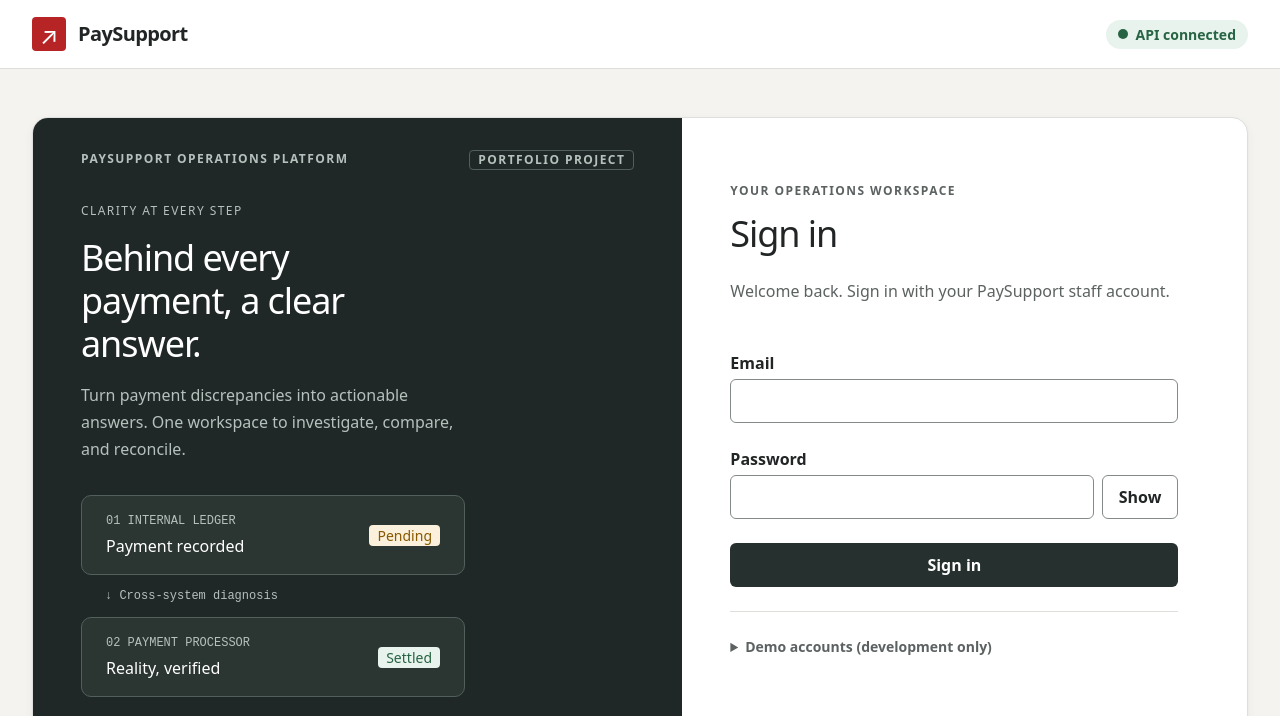
Test: workspace › searches by customer and explains when nothing matches
This screenshot has width=1280, height=716.
Type "engineer@paysupport.test" into the field labelled "Email" at (954, 401), box [730,379,1178,423]
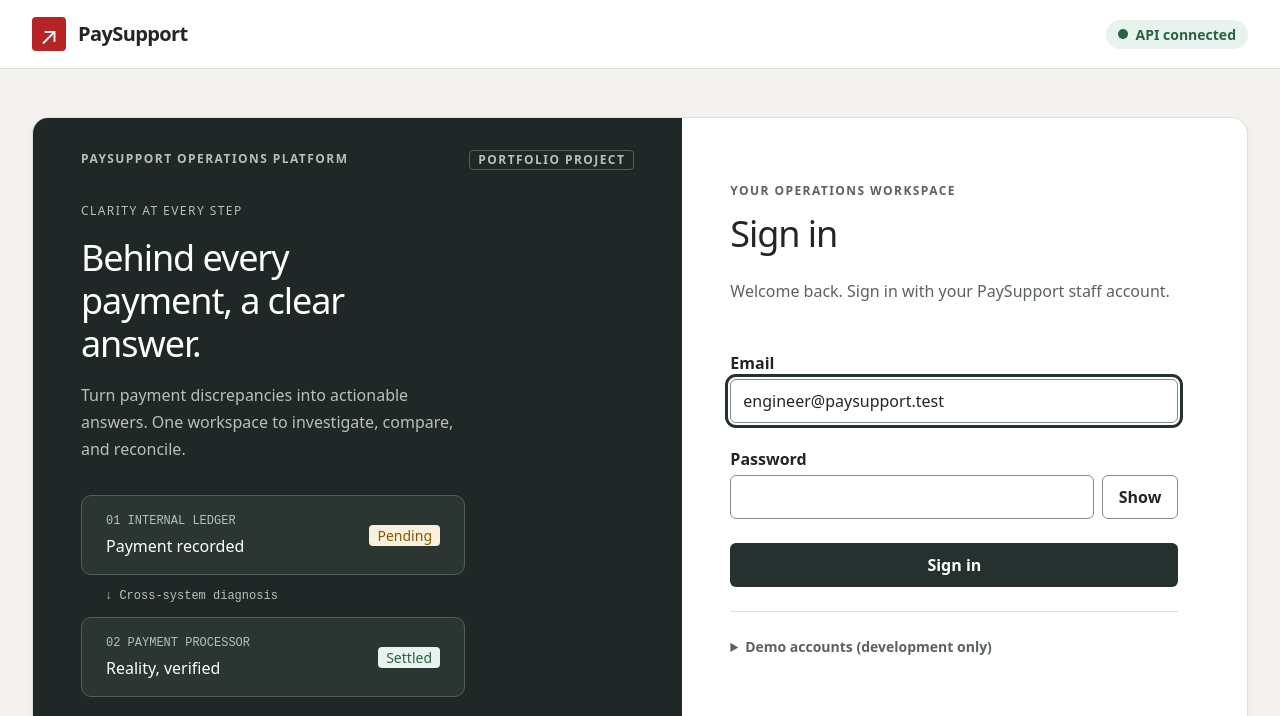
Type "test-password" into the password field labelled "Password" at (912, 497), box [730,475,1094,519]
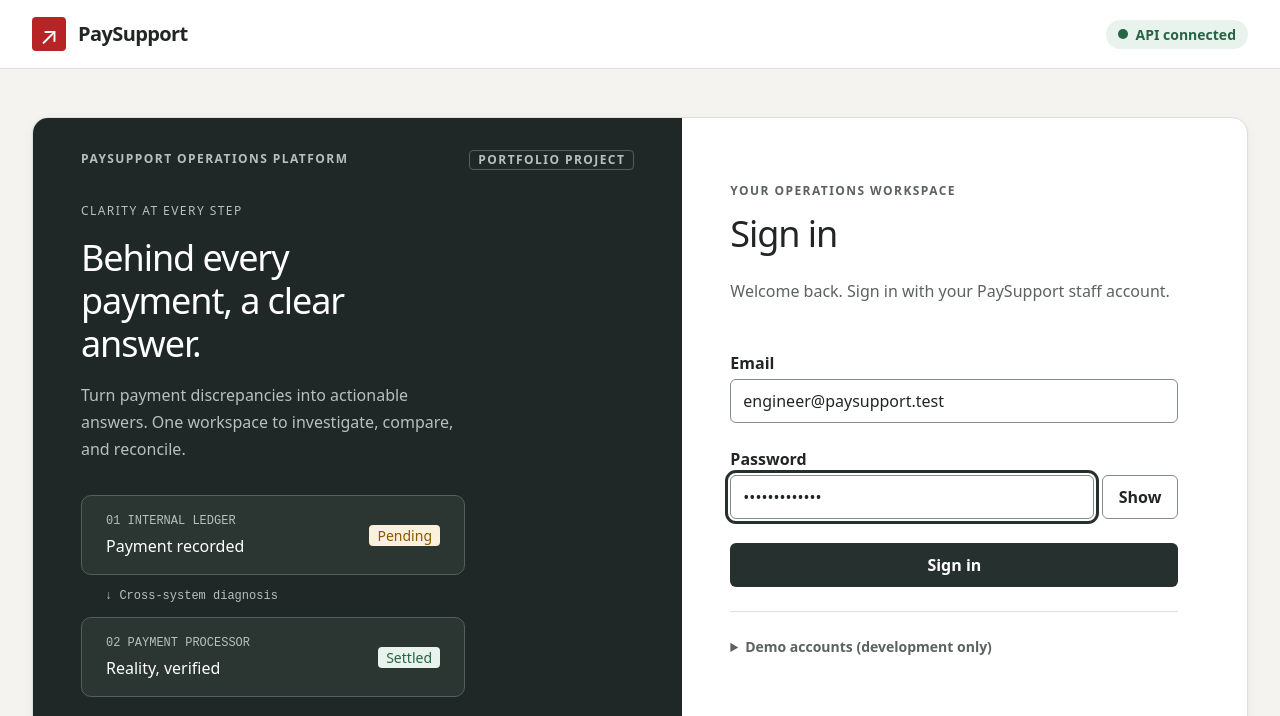
Click the button "Sign in" at (954, 565), box [730,543,1178,587]
(page scrolled)
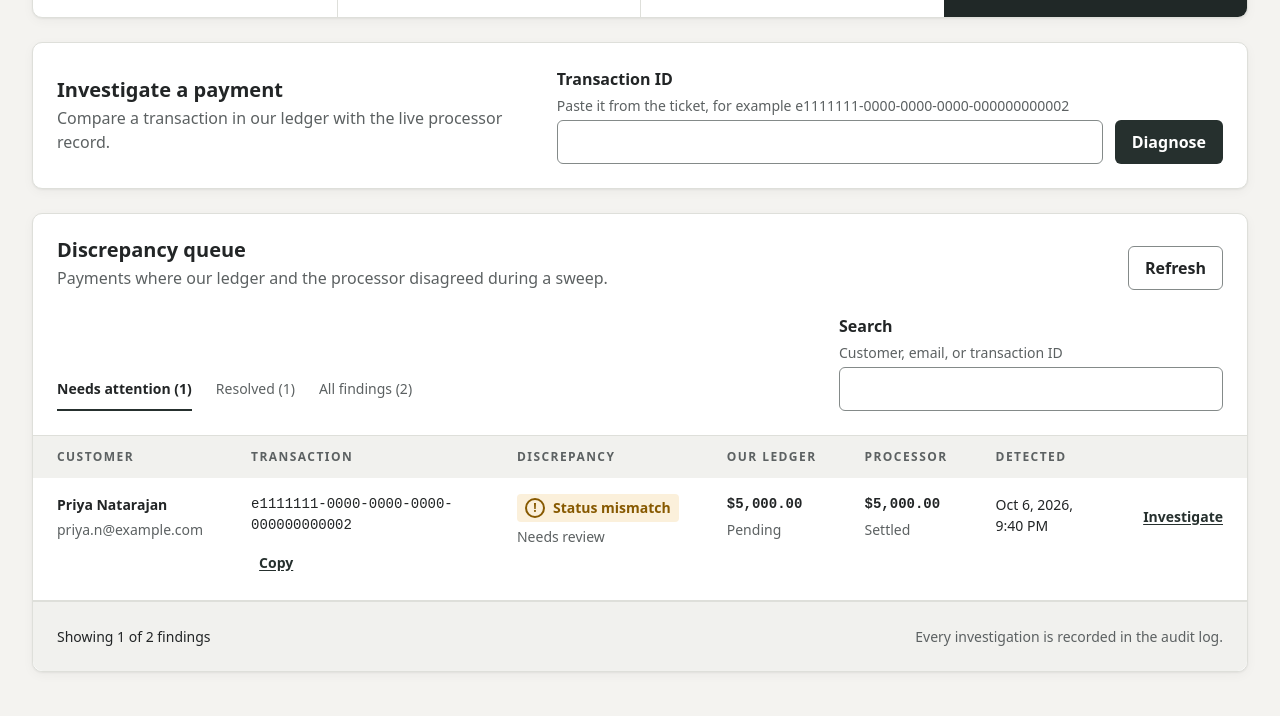
Check: the text "Priya Natarajan" is shown, box [57,495,167,514]
Click the button "All findings (2)" at (366, 389), box [319,367,412,411]
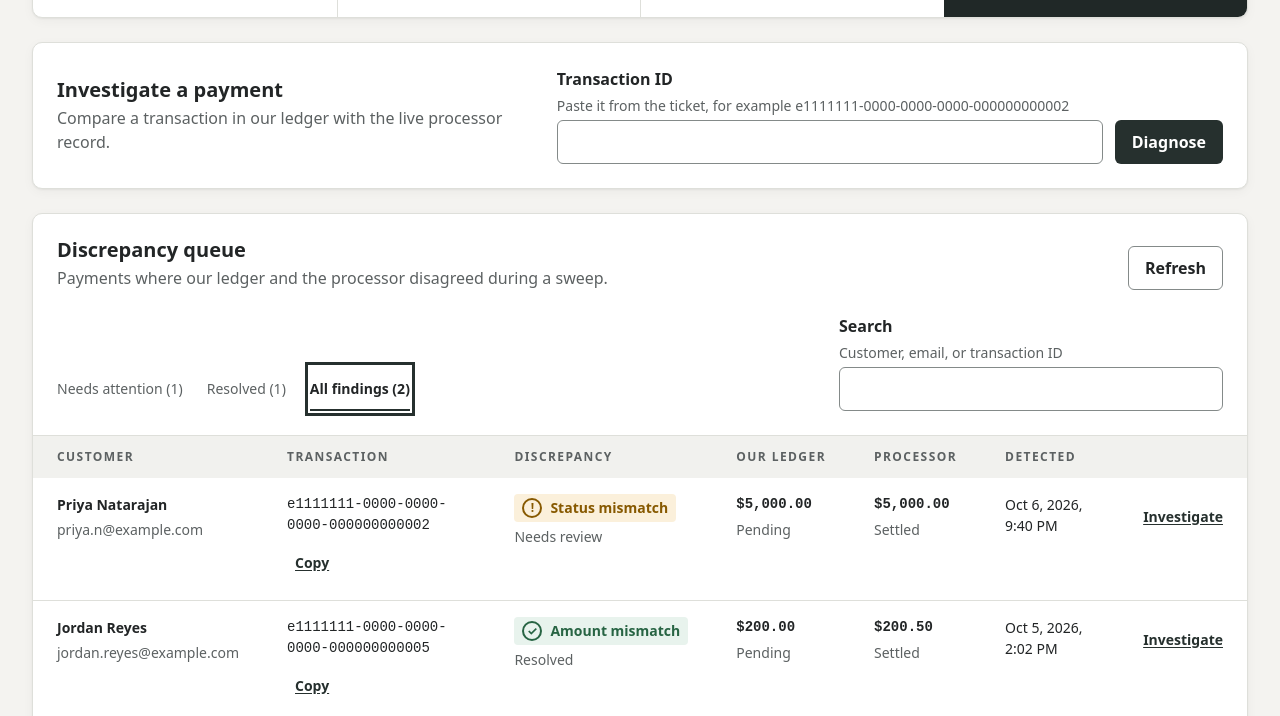
Type "jordan" into the search field labelled "Search" at (1031, 389), box [839,367,1223,411]
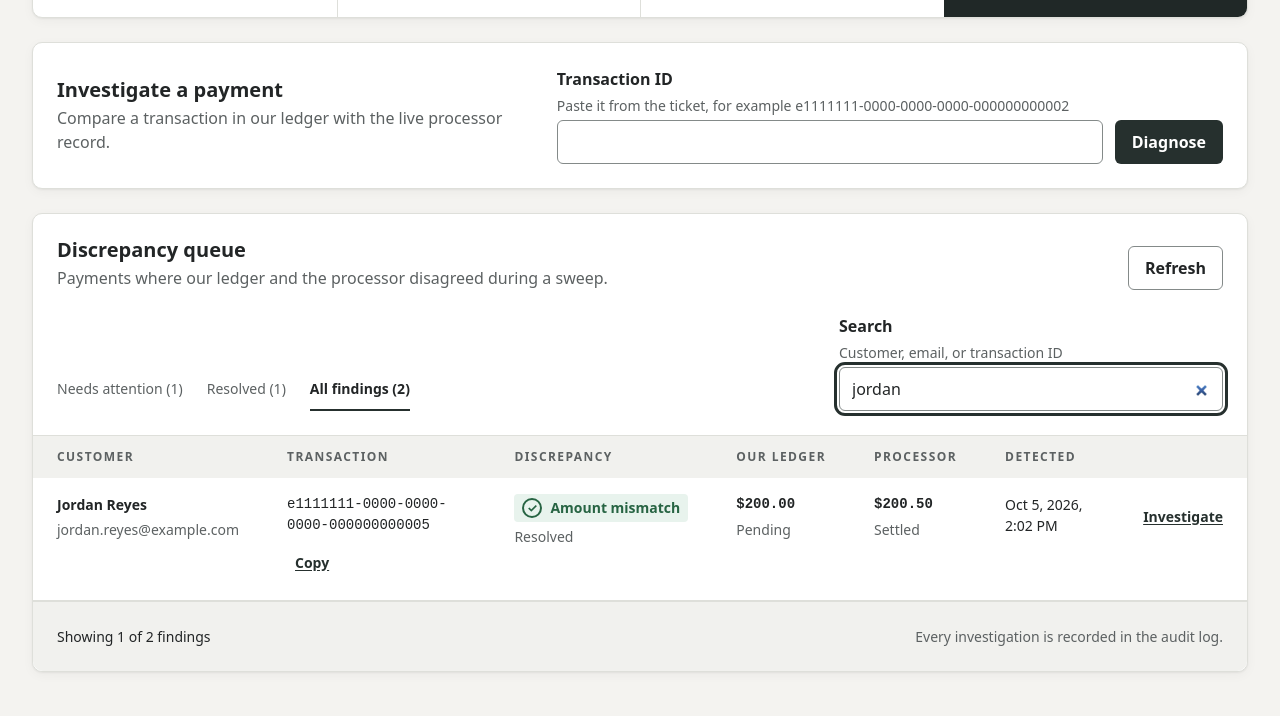
Check: the text "Jordan Reyes" is shown, box [57,495,147,514]
Check: the text "Priya Natarajan" is gone
Replace the text in the search field labelled "Search" with "zzz" at (1031, 389), box [839,367,1223,411]
(page scrolled)
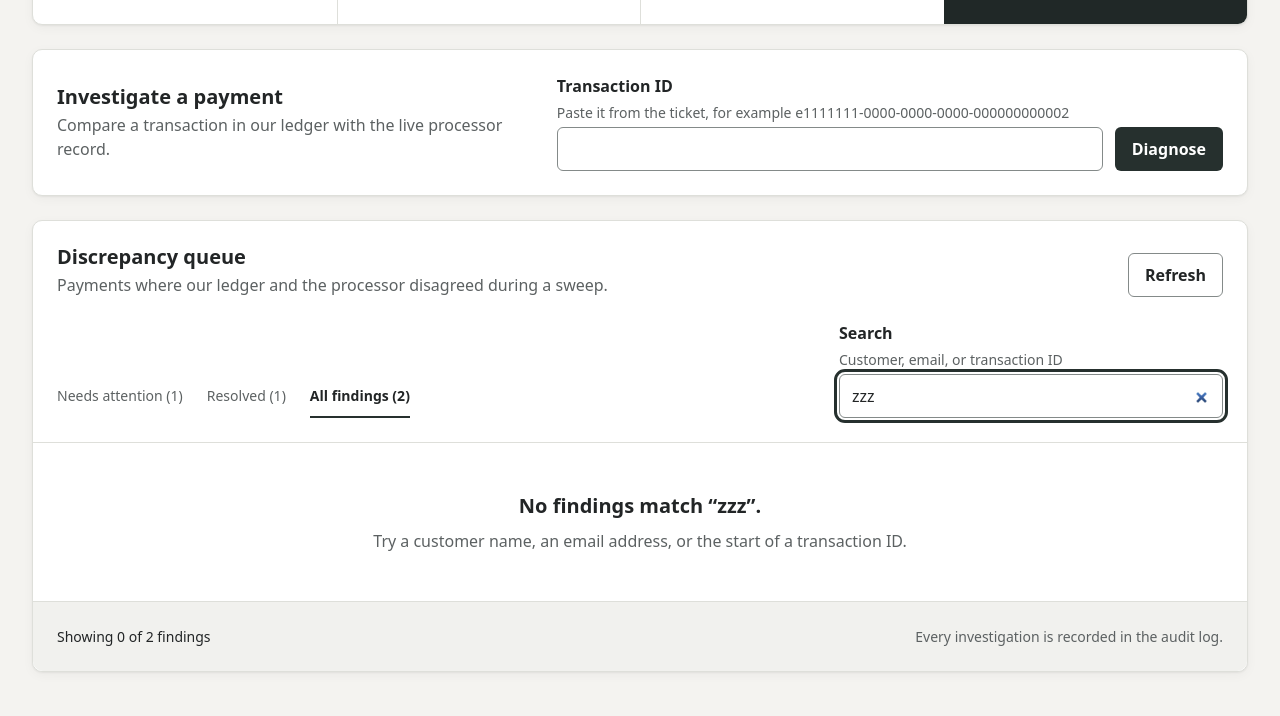
Check: the text "No findings match “zzz”." is shown, box [519,491,761,521]
